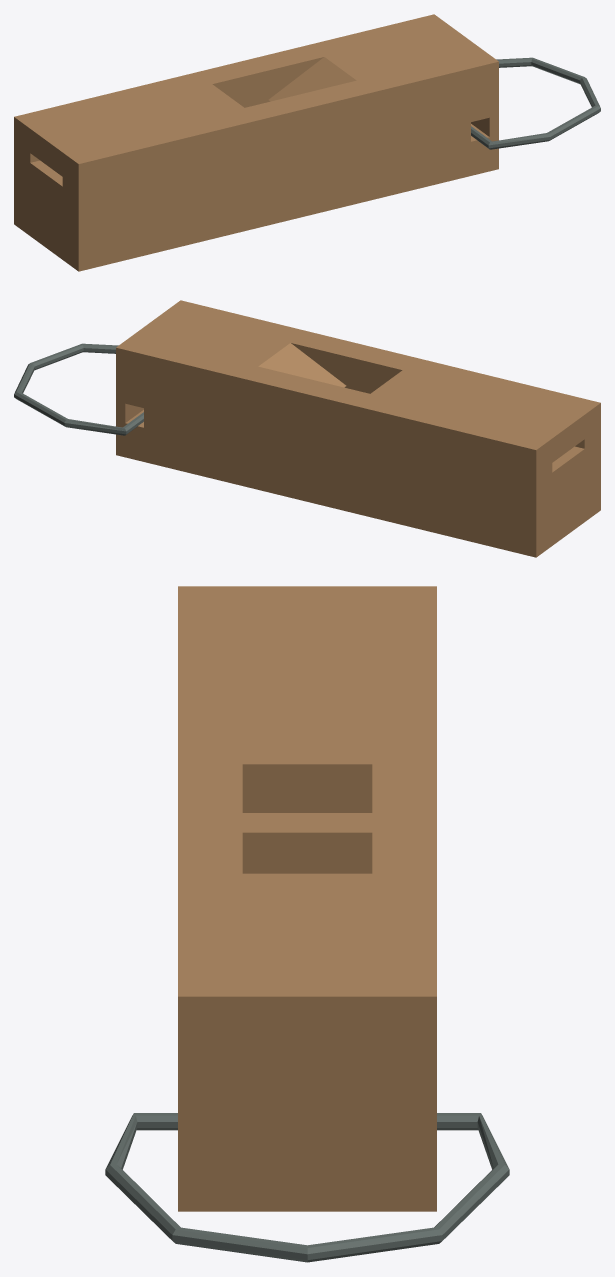
The picture shows the model from 3 angles, top to bottom: view 1: azimuth 30°, elevation 25°; view 2: azimuth 150°, elevation 25°; view 3: azimuth 270°, elevation 25°; orthographic projection. The views are drawn at different scales.
Parts seen in each view (by area): view 1: WholeWindwayChamberWhistleBody, WholeThroughBoreCordLoop, WholeSlopingLabiumInsert; view 2: WholeWindwayChamberWhistleBody, WholeThroughBoreCordLoop, WholeSlopingLabiumInsert; view 3: WholeWindwayChamberWhistleBody, WholeThroughBoreCordLoop, WholeSlopingLabiumInsert.
Part boxes in pixels (left/top/right/bottom): WholeWindwayChamberWhistleBody: left=14, top=14, right=498, bottom=271; WholeThroughBoreCordLoop: left=471, top=57, right=600, bottom=149; WholeSlopingLabiumInsert: left=268, top=52, right=374, bottom=101; WholeWindwayChamberWhistleBody: left=116, top=300, right=600, bottom=557; WholeThroughBoreCordLoop: left=14, top=343, right=143, bottom=435; WholeSlopingLabiumInsert: left=240, top=338, right=346, bottom=387; WholeWindwayChamberWhistleBody: left=178, top=586, right=436, bottom=1211; WholeThroughBoreCordLoop: left=105, top=1113, right=509, bottom=1262; WholeSlopingLabiumInsert: left=242, top=873, right=372, bottom=891.
Bounding box in the file's own units: 0.1157 × 0.022 × 0.0375.
